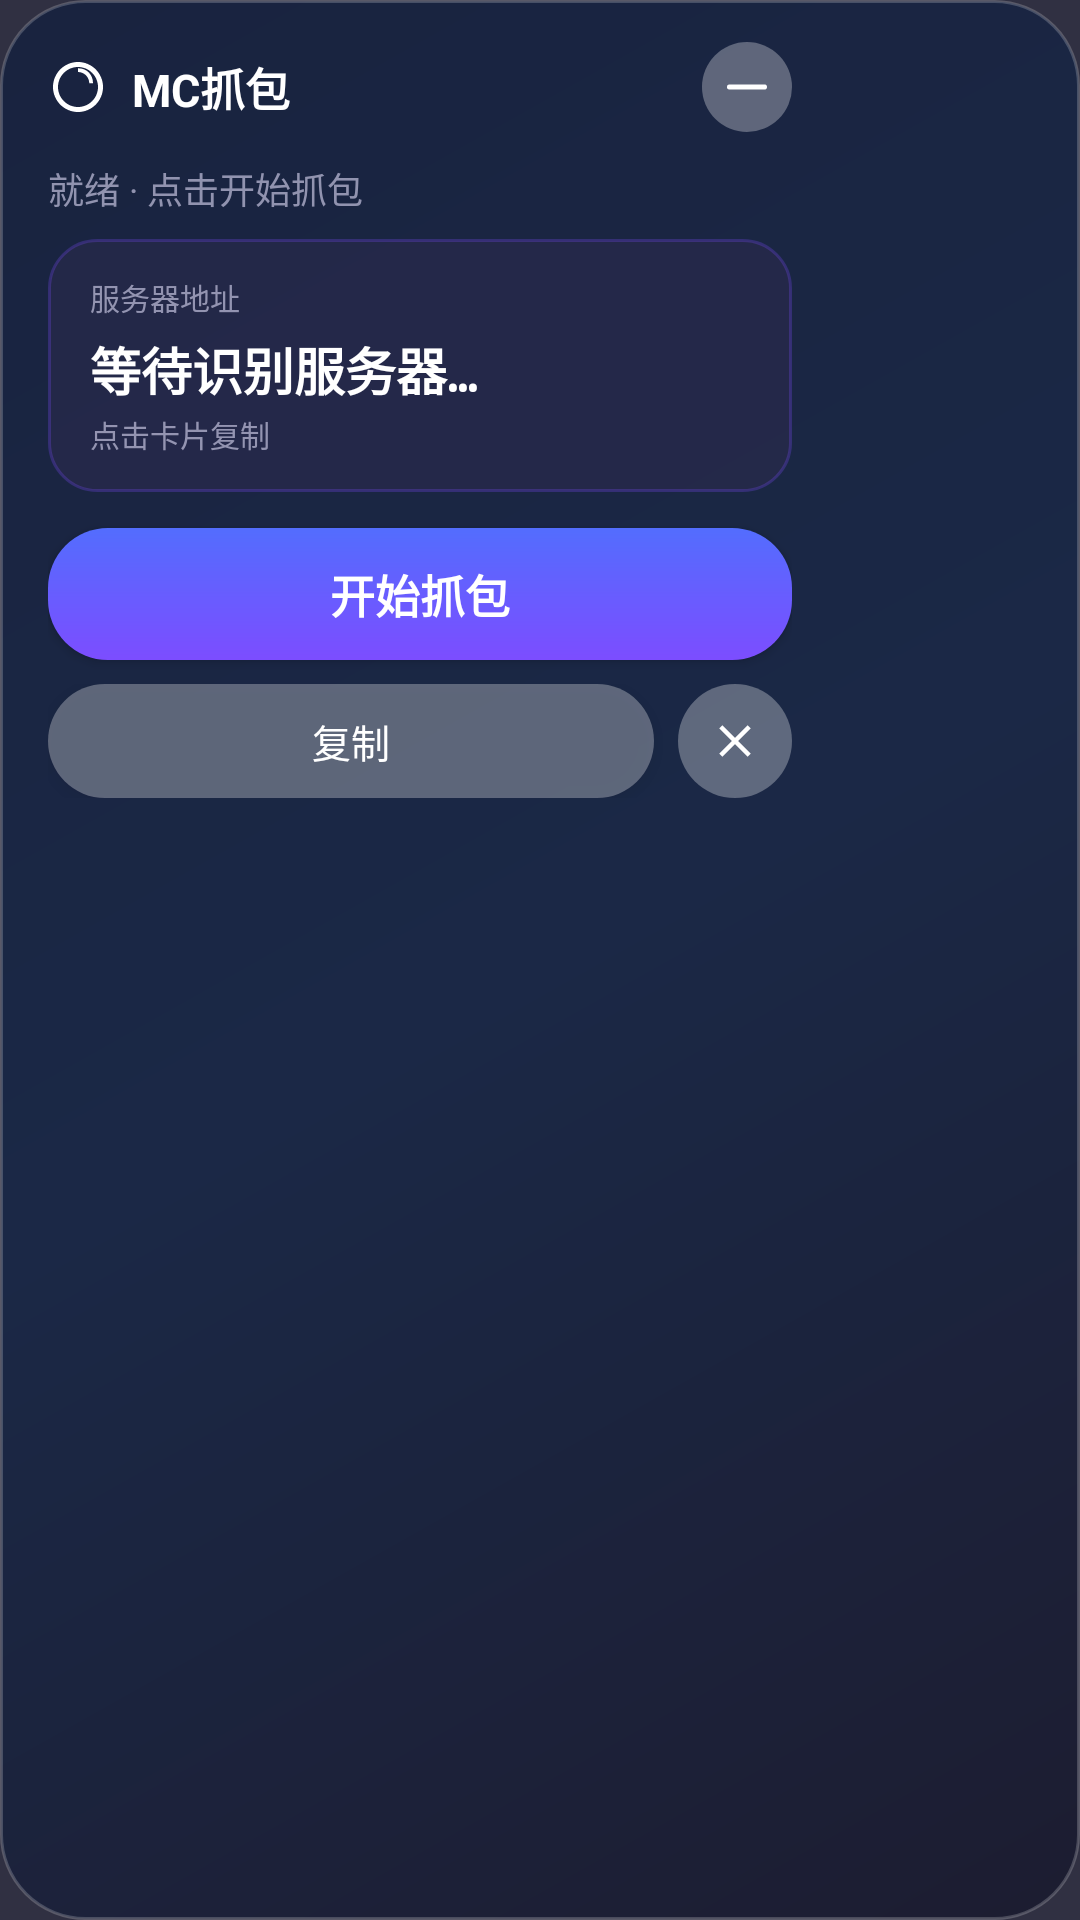

Icon click points for this 1080px×1920px phone screenshot, format (x=x, y=y):
capture: (x=78, y=87)
collapse: (x=747, y=87)
关闭: (x=735, y=741)
